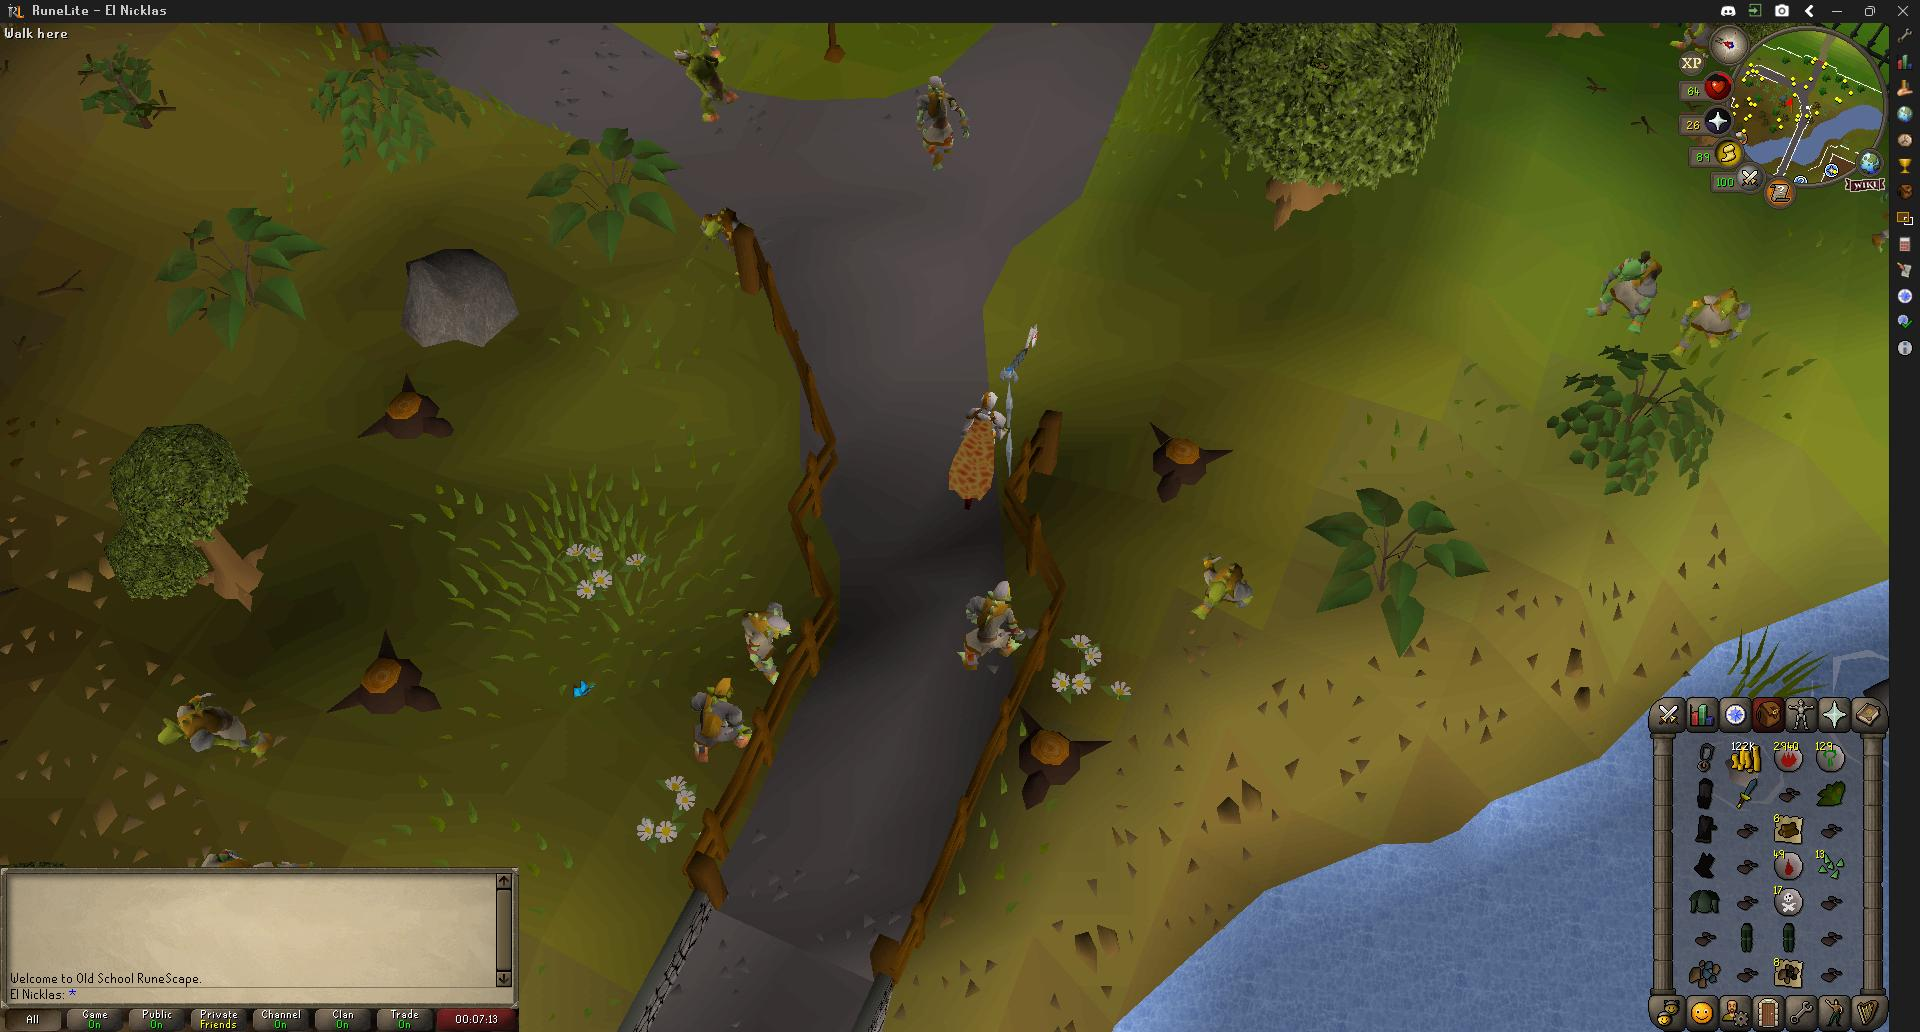Player: (943, 394, 998, 509)
goblin: (159, 691, 276, 758), (960, 580, 1028, 675), (1586, 250, 1660, 335), (678, 22, 739, 123), (1672, 287, 1749, 361), (921, 77, 971, 168), (688, 677, 744, 755), (737, 602, 789, 684), (1188, 555, 1249, 620), (701, 206, 740, 255), (696, 22, 722, 55)
